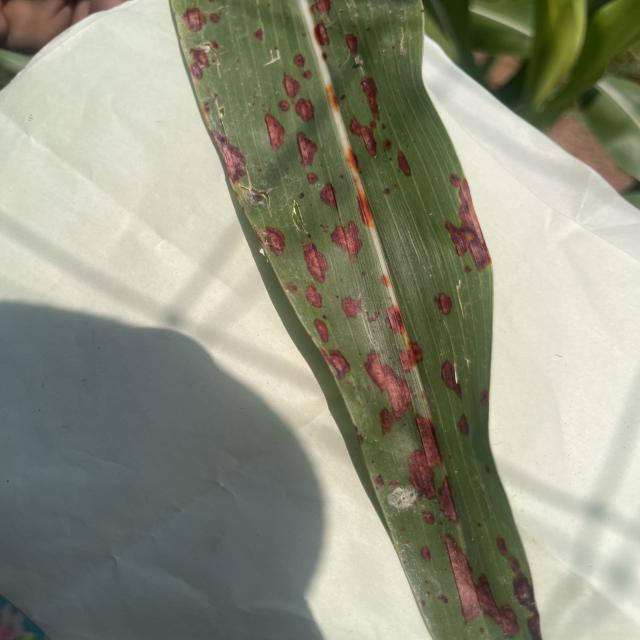millet_rust: (169, 0, 543, 640)
